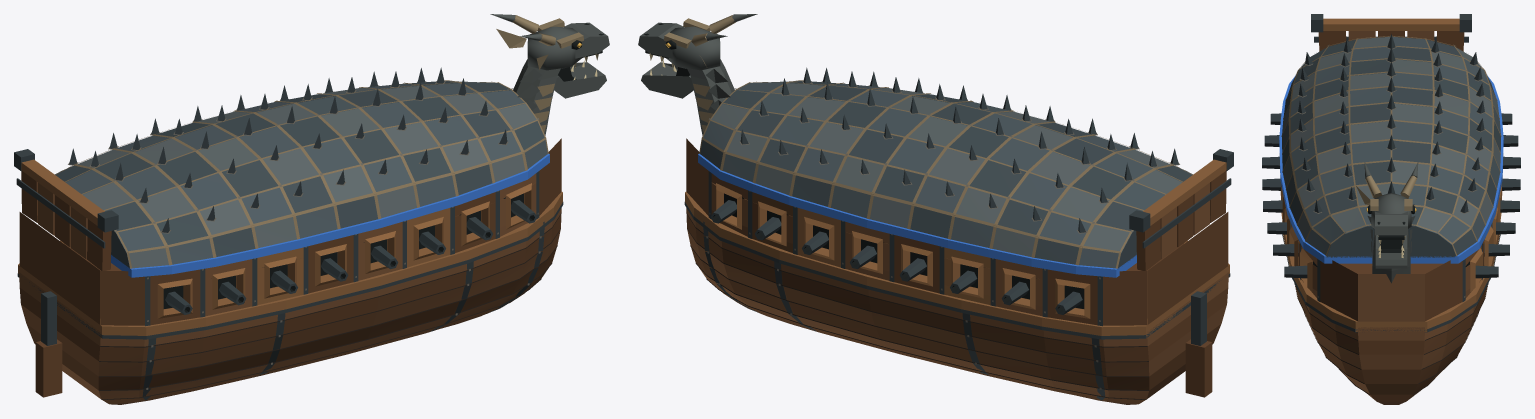
3 renders of one model, left to right at view 1: azimuth 30°, elevation 25°; view 2: azimuth 150°, elevation 25°; view 3: azimuth 270°, elevation 25°, orthographic. The views are drawn at different scales.
Visible parts, largest first — view 1: turtle-armor-plate-tones-0, turtle-armor-plate-tones-2, turtle-armor-plate-tones-1, hull-plank-strake-5, hull-plank-strake-4, hull-sheer-heavy-wood-wale, hull-plank-strake-3, armor-transverse-iron-ribs, aft-transom-wall, team-roof-perimeter-cornice, hull-plank-strake-6, armor-longitudinal-iron-grid (+36 smaller); view 2: turtle-armor-plate-tones-0, turtle-armor-plate-tones-2, turtle-armor-plate-tones-1, hull-plank-strake-5, hull-plank-strake-4, hull-sheer-heavy-wood-wale, hull-plank-strake-3, armor-transverse-iron-ribs, aft-transom-wall, team-roof-perimeter-cornice, armor-longitudinal-iron-grid, hull-plank-strake-6 (+36 smaller); view 3: turtle-armor-plate-tones-1, turtle-armor-plate-tones-2, turtle-armor-plate-tones-0, armor-transverse-iron-ribs, fore-transom-wall, forty-five-forged-armor-spikes, armor-longitudinal-iron-grid, hull-plank-strake-5, team-roof-perimeter-cornice, hull-sheer-heavy-wood-wale, fore-armor-vault-end, hull-plank-strake-4 (+32 smaller).
Part boxes in pixels (<box>): turtle-armor-plate-tones-0: <box>66,83,547,264</box>; turtle-armor-plate-tones-2: <box>55,81,536,268</box>; turtle-armor-plate-tones-1: <box>56,81,544,256</box>; hull-plank-strake-5: <box>19,214,561,361</box>; hull-plank-strake-4: <box>21,230,560,376</box>; hull-sheer-heavy-wood-wale: <box>18,191,562,336</box>; hull-plank-strake-3: <box>26,247,556,389</box>; armor-transverse-iron-ribs: <box>73,80,548,268</box>; aft-transom-wall: <box>19,212,100,324</box>; team-roof-perimeter-cornice: <box>111,153,549,277</box>; hull-plank-strake-6: <box>19,208,561,346</box>; armor-longitudinal-iron-grid: <box>55,82,546,253</box>; turtle-armor-plate-tones-0: <box>703,83,1192,268</box>; turtle-armor-plate-tones-2: <box>711,81,1181,256</box>; turtle-armor-plate-tones-1: <box>700,81,1191,264</box>; hull-plank-strake-5: <box>686,214,1228,361</box>; hull-plank-strake-4: <box>687,230,1226,376</box>; hull-sheer-heavy-wood-wale: <box>685,191,1229,337</box>; hull-plank-strake-3: <box>691,247,1221,389</box>; armor-transverse-iron-ribs: <box>699,80,1174,268</box>; aft-transom-wall: <box>1147,212,1228,324</box>; team-roof-perimeter-cornice: <box>698,153,1136,277</box>; armor-longitudinal-iron-grid: <box>701,82,1192,253</box>; hull-plank-strake-6: <box>686,208,1228,346</box>; turtle-armor-plate-tones-1: <box>1282,39,1500,255</box>; turtle-armor-plate-tones-2: <box>1282,36,1500,239</box>; turtle-armor-plate-tones-0: <box>1282,36,1500,255</box>; armor-transverse-iron-ribs: <box>1281,36,1501,255</box>; fore-transom-wall: <box>1358,274,1424,321</box>; forty-five-forged-armor-spikes: <box>1298,34,1484,212</box>; armor-longitudinal-iron-grid: <box>1288,39,1494,244</box>; hull-plank-strake-5: <box>1295,286,1487,354</box>; team-roof-perimeter-cornice: <box>1279,75,1503,263</box>; hull-sheer-heavy-wood-wale: <box>1283,234,1499,331</box>; fore-armor-vault-end: <box>1326,226,1455,257</box>; hull-plank-strake-4: <box>1303,310,1479,369</box>.
Bounding box in the file's own units: 1.65 × 0.78 × 0.7418.
